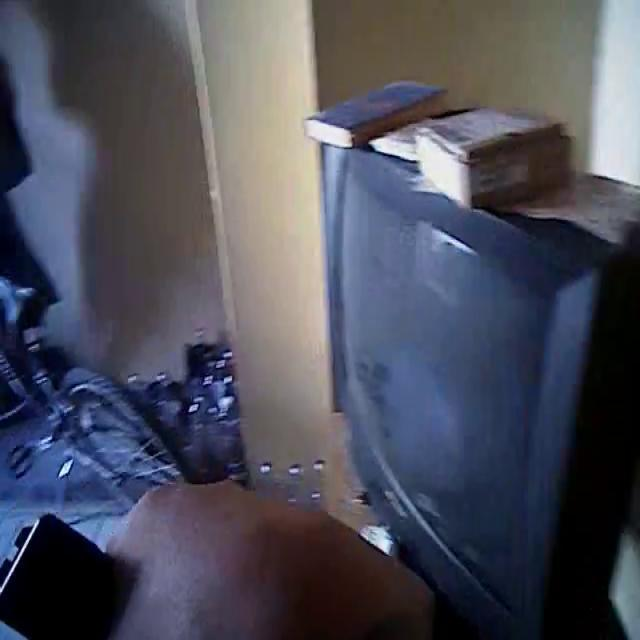gun: (0, 480, 148, 640)
